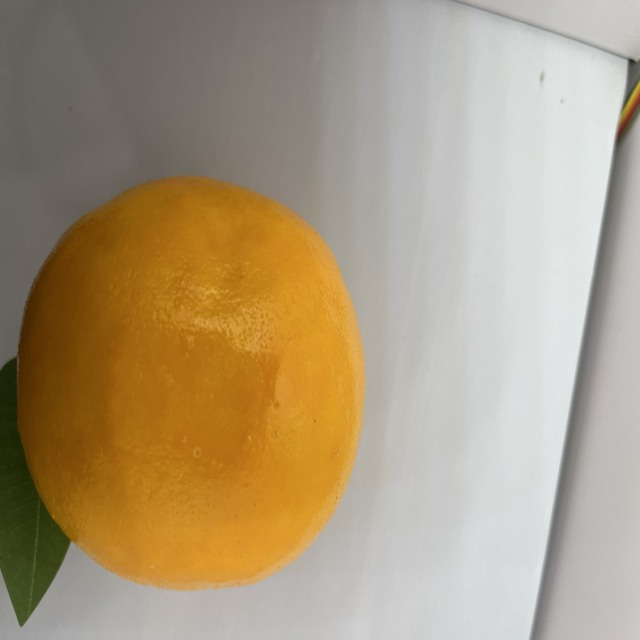Cam vang: (5, 174, 369, 596)
